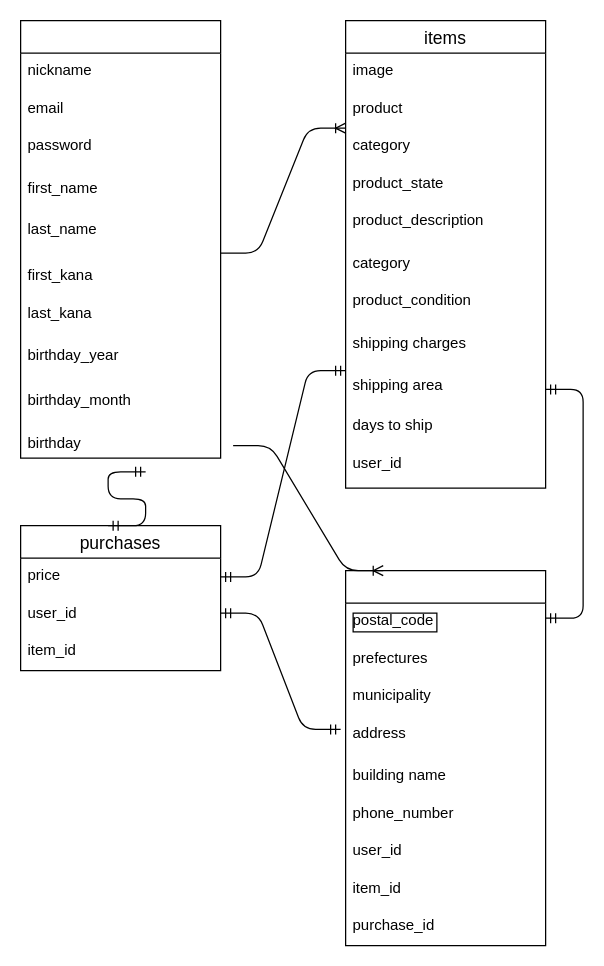
Some shapes in this 604 by 966 pixel diagram are drawn without their labels. Each missing label, with the box of its shape:
addresses: (344, 569, 546, 946)
users: (19, 19, 221, 458)
